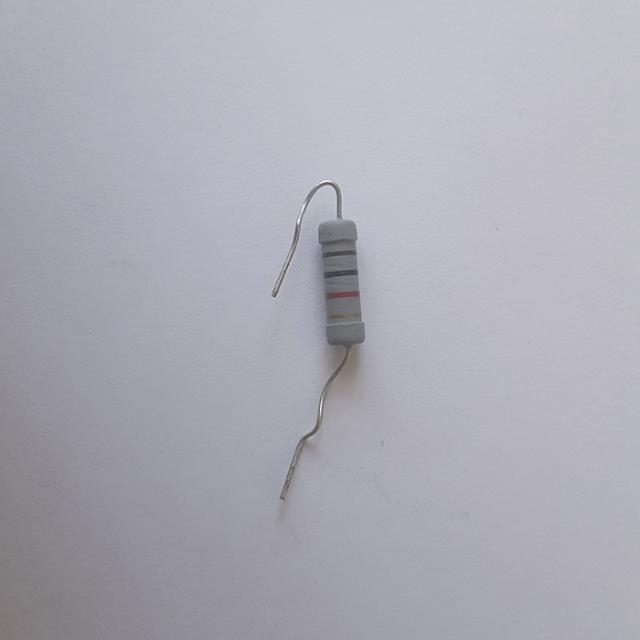black: (325, 268, 357, 277)
brown: (322, 250, 354, 258)
gold: (328, 313, 360, 318)
red: (325, 290, 358, 298)
resistor: (304, 216, 387, 364)
